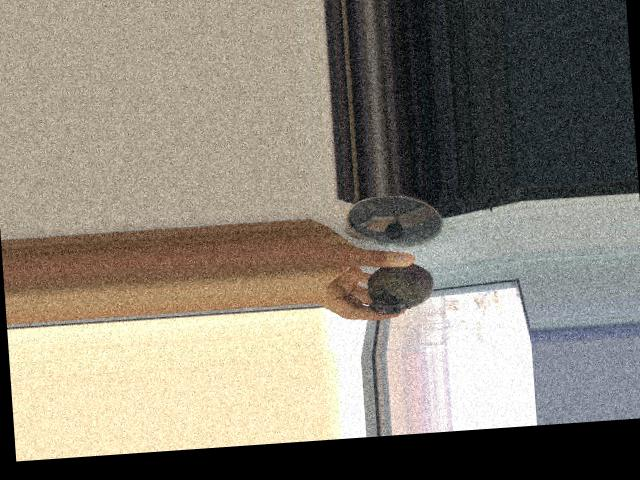beet: (347, 261, 436, 317)
